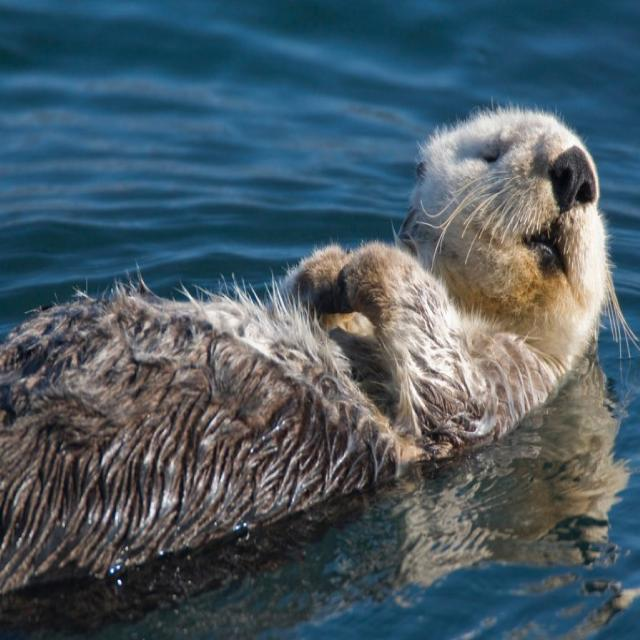Otter: (0, 96, 615, 570)
